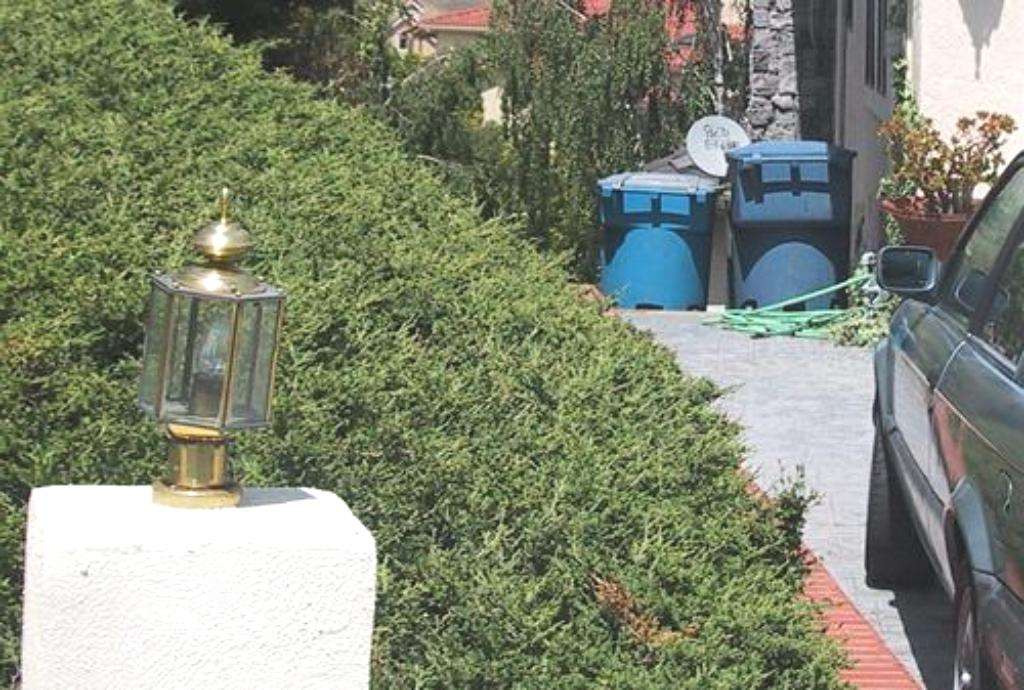dustbin: (726, 129, 856, 318), (589, 167, 718, 300)
